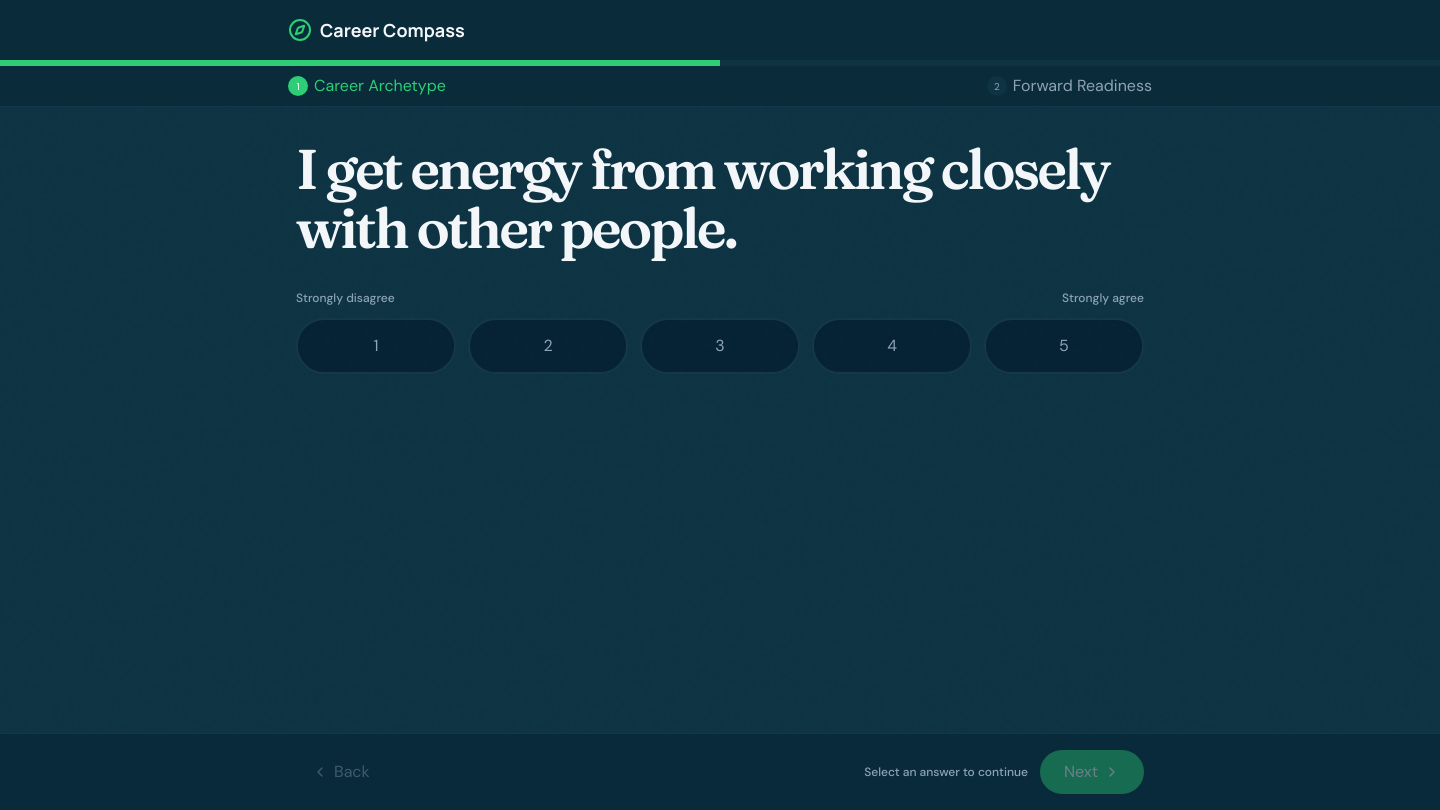
Scenario: CareerCompassAssessmentPage › keeps the just-given answer visible and surfaces an error instead of discarding it when the session bootstrap fails
Click the button "2": [548, 346] box [468,318,628,374]
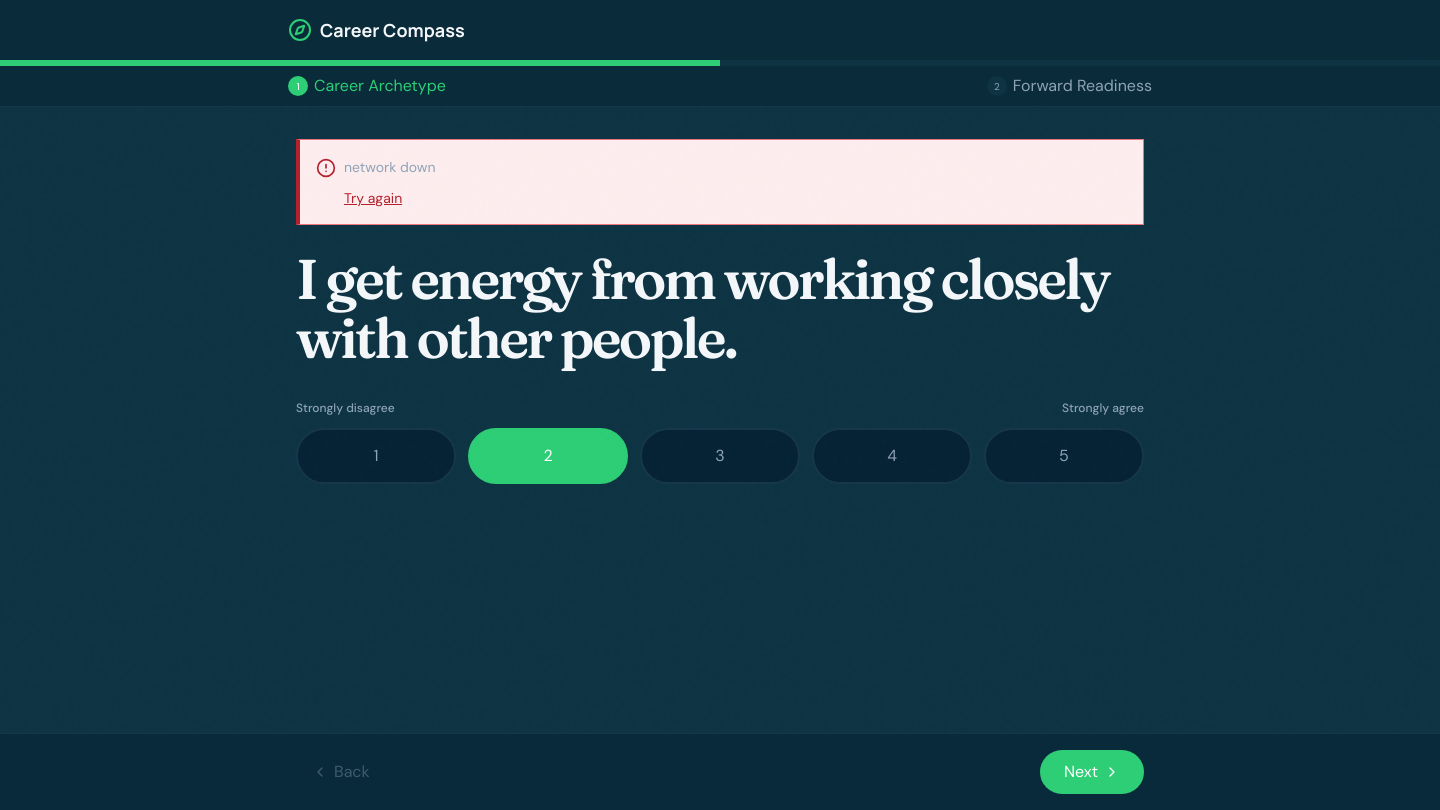
Check: the heading "I get energy from working closely with other people." is shown, box [296,249,1144,368]
Check: the text "network down" is shown, box [344,156,436,180]
